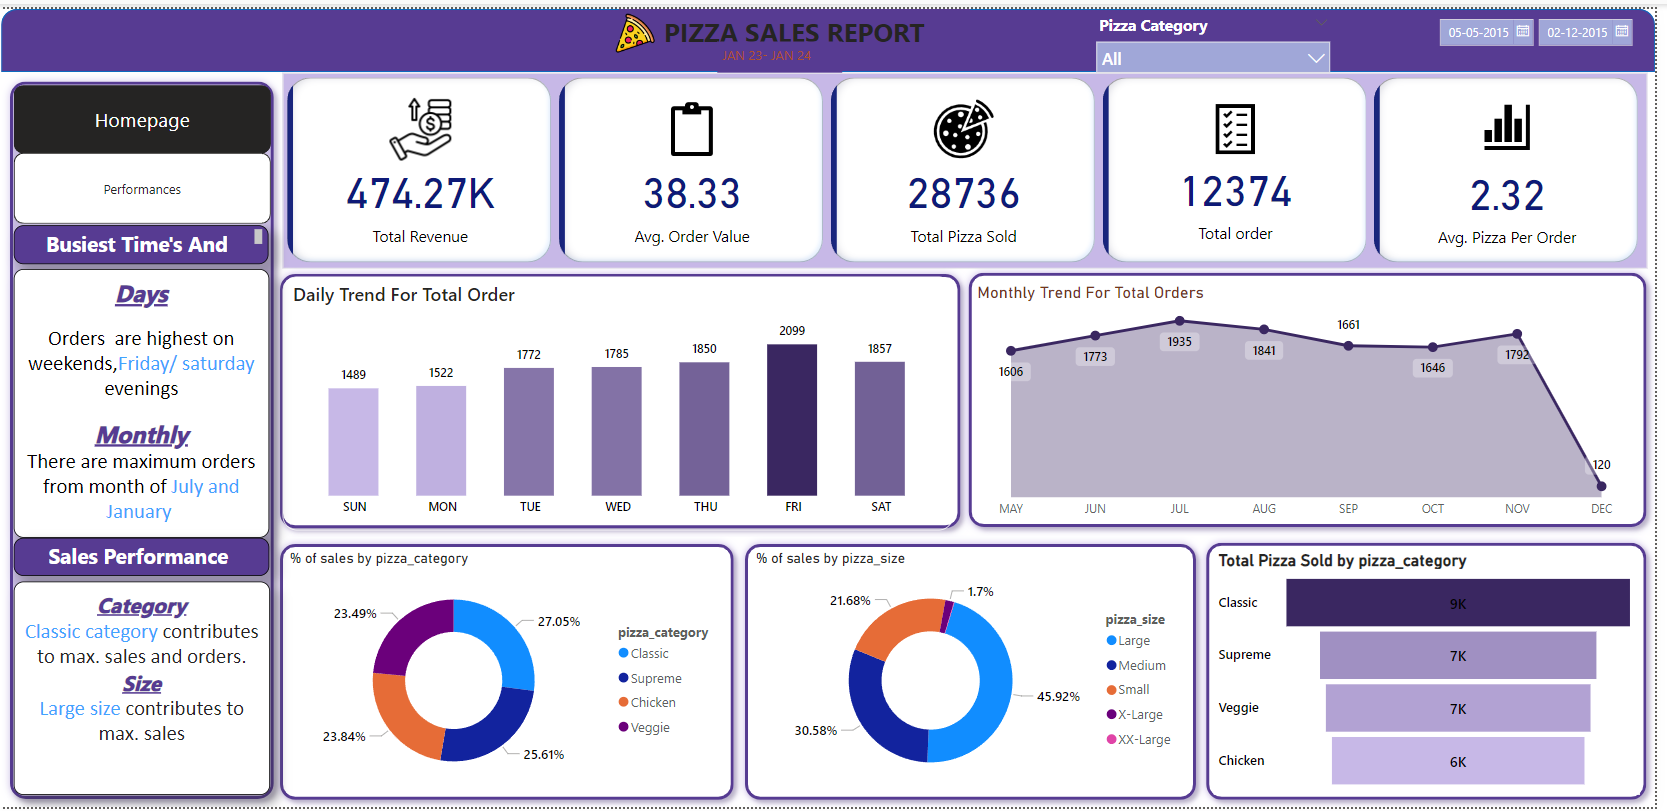

Layout of this report page (visuals, bound fields, positions):
{"tool":"powerbi","page":{"name":"Homepage","canvas":[1700,820],"ordinal":0},"visuals":[{"type":"cardVisual","fields":{"Data":["pizza_sales.Total Revenue","pizza_sales.Avg. Order Value","pizza_sales.Total Pizza Sold","pizza_sales.Total order","pizza_sales.Avg. Pizza Per Order"]},"box":[290.3,65.9,1401.2,200.6],"z":0},{"type":"shape","box":[1.8,0,1698.2,64.7],"z":1000},{"type":"textbox","box":[635.1,0,360.7,51.5],"z":2000},{"type":"image","box":[466.5,0,373.2,50.1],"z":3000},{"type":"textbox","box":[736.7,33.4,128.1,32],"z":4000},{"type":"shape","box":[279.1,263.7,716.7,279.1],"z":5000},{"type":"columnChart","title":"Daily Trend For Total Order","fields":{"Category":["pizza_sales.Order Day"],"Y":["pizza_sales.Total order"]},"box":[290.3,274.9,688.7,260.9],"z":6000},{"type":"shape","box":[986.1,262.3,713.9,279.1],"z":7000},{"type":"areaChart","title":"Monthly Trend For Total Orders","fields":{"Y":["pizza_sales.Total order"],"Category":["pizza_sales.order_month"]},"box":[998.7,280.5,685.9,245.5],"z":8000},{"type":"shape","box":[756,540,481.1,280.5],"z":9000},{"type":"donutChart","title":"% of sales by pizza_size ","fields":{"Y":["pizza_sales.Total Revenue"],"Category":["pizza_sales.pizza_size"]},"box":[771.5,555.4,448.8,251.1],"z":10000},{"type":"shape","box":[279.1,540,483.9,280.5],"z":11000},{"type":"shape","box":[1230.1,538.6,469.9,281.9],"z":12000},{"type":"donutChart","title":"% of sales by pizza_category ","fields":{"Category":["pizza_sales.pizza_category"],"Y":["pizza_sales.Total Revenue"]},"box":[293.2,555.4,455.9,251.1],"z":13000},{"type":"funnel","fields":{"Category":["pizza_sales.pizza_category"],"Y":["pizza_sales.Total Pizza Sold"]},"box":[1246.9,555.4,437.6,251.1],"z":14000},{"type":"shape","box":[1.6,65.4,288.6,740],"z":15000},{"type":"textbox","box":[14.4,221.7,261.5,39.9],"z":16000},{"type":"textbox","box":[14,266.5,262.3,276.3],"z":17000},{"type":"textbox","box":[14,542.8,262.3,39.3],"z":18000},{"type":"textbox","box":[14,587.7,263.7,206.2],"z":19000},{"type":"slicer","fields":{"Values":["pizza_sales.order_date"]},"box":[1465.3,0,234.7,64.7],"z":20000},{"type":"slicer","fields":{"Values":["pizza_sales.pizza_category"]},"box":[1116.1,0,260.5,66.5],"z":21000},{"type":"pageNavigator","box":[14.4,78.1,264,70.2],"z":23000},{"type":"pageNavigator","box":[14.7,148.2,264,73.3],"z":24000}]}

Visuals, with their boxes in screenshot pixels (x1, y1, x2, y2), scaled from the page's 1700x820 canvas onto the 1667x811 screenshot:
cardVisual - pizza_sales.Total Revenue x pizza_sales.Avg. Order Value: 285 65 1659 264
shape: 2 0 1666 64
textbox: 623 0 976 51
image: 457 0 823 50
textbox: 722 33 848 65
shape: 274 261 976 537
"Daily Trend For Total Order" columnChart: 285 272 960 530
shape: 967 259 1666 535
"Monthly Trend For Total Orders" areaChart: 979 277 1652 520
shape: 741 534 1213 810
"% of sales by pizza_size " donutChart: 757 549 1197 798
shape: 274 534 748 810
shape: 1206 533 1666 810
"% of sales by pizza_category " donutChart: 288 549 735 798
funnel - pizza_sales.pizza_category x pizza_sales.Total Pizza Sold: 1223 549 1652 798
shape: 2 65 285 797
textbox: 14 219 271 259
textbox: 14 264 271 537
textbox: 14 537 271 576
textbox: 14 581 272 785
slicer - pizza_sales.order_date: 1437 0 1666 64
slicer - pizza_sales.pizza_category: 1094 0 1350 66
pageNavigator: 14 77 273 147
pageNavigator: 14 147 273 219
